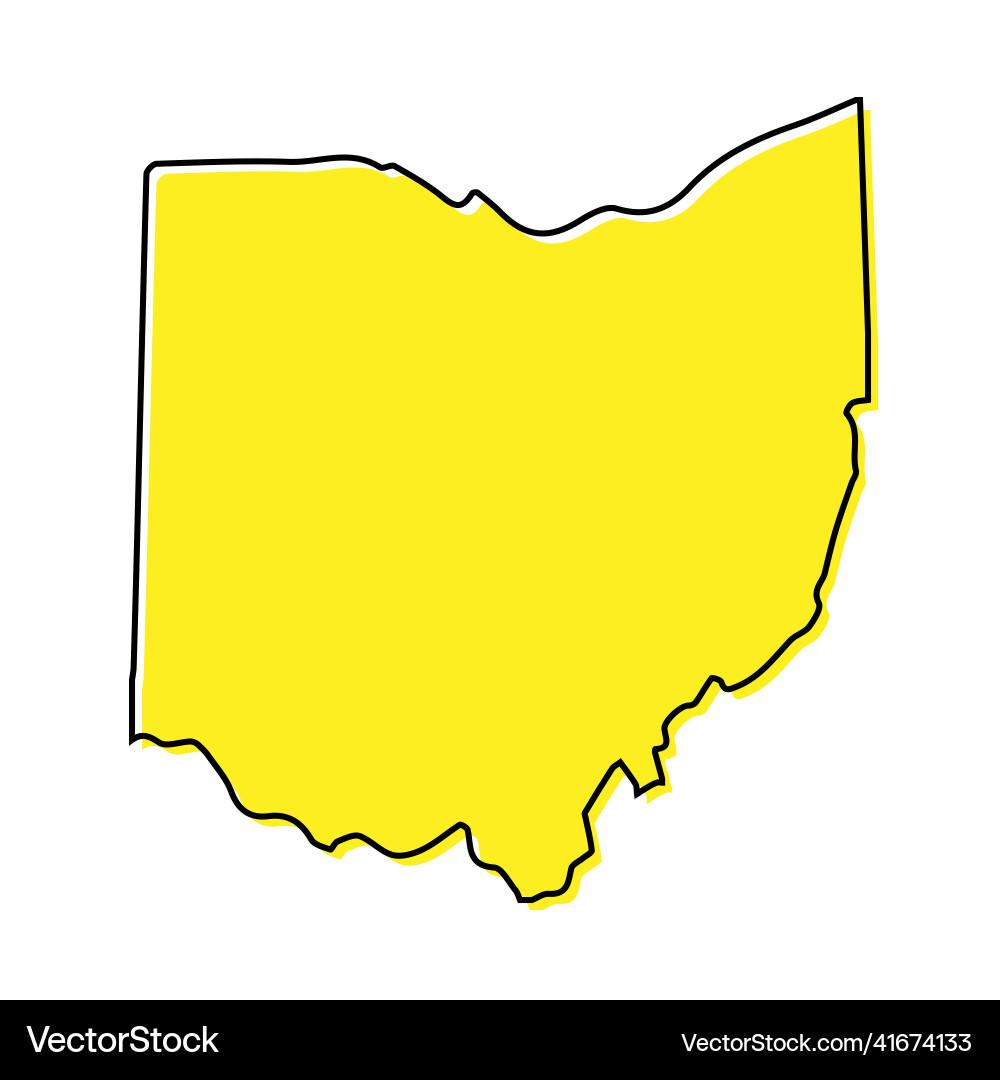ohio: (145, 91, 868, 905)
